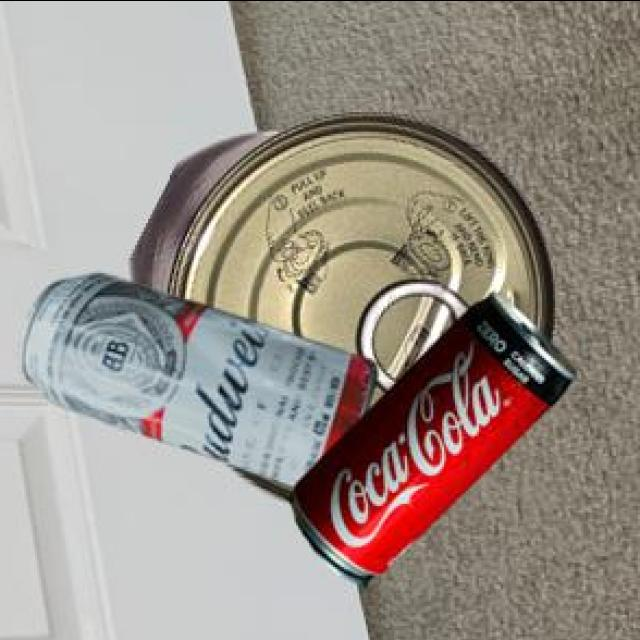logam: (125, 116, 554, 504), (286, 295, 574, 589), (16, 275, 373, 489)
